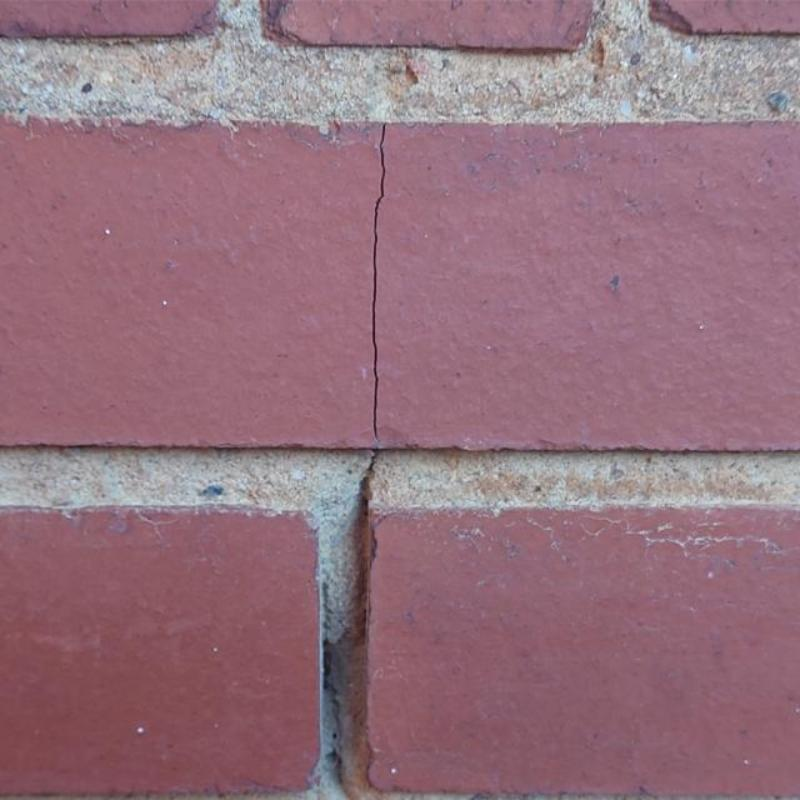pothole: (371, 125, 391, 448)
